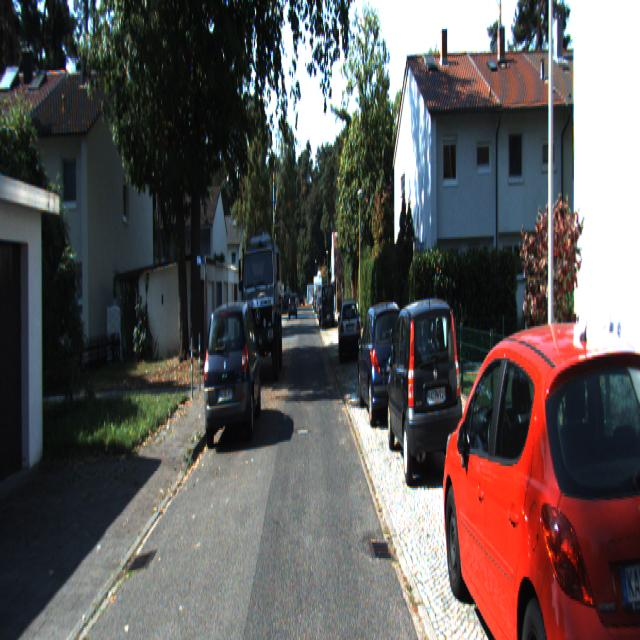Car: (440, 310, 639, 638), (384, 300, 464, 490), (203, 304, 263, 458), (358, 301, 410, 434), (338, 296, 362, 362)
DontCare: (284, 286, 302, 322)
Truck: (240, 234, 282, 376)
Van: (322, 283, 336, 329)
